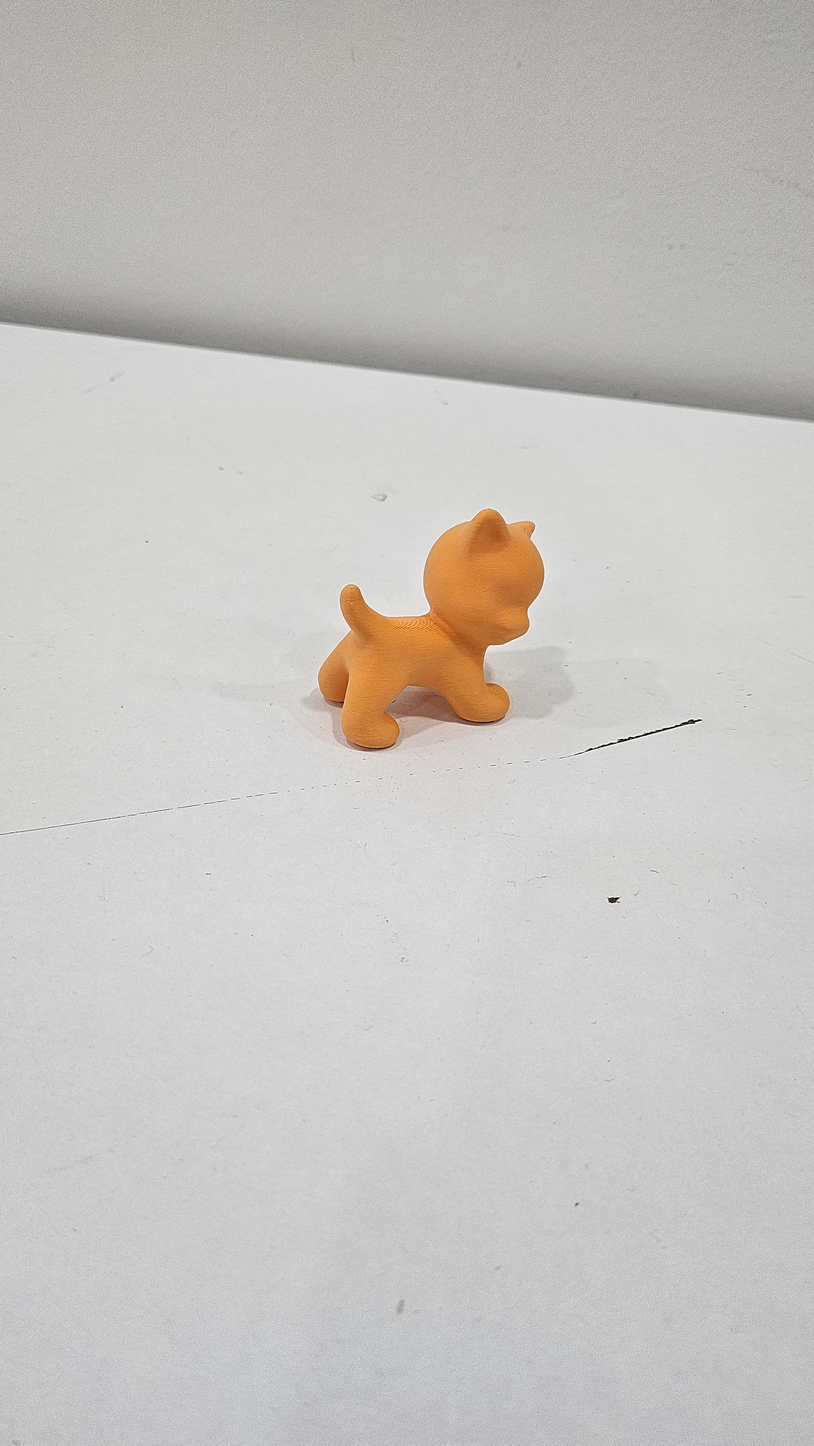cat: (313, 506, 549, 757)
